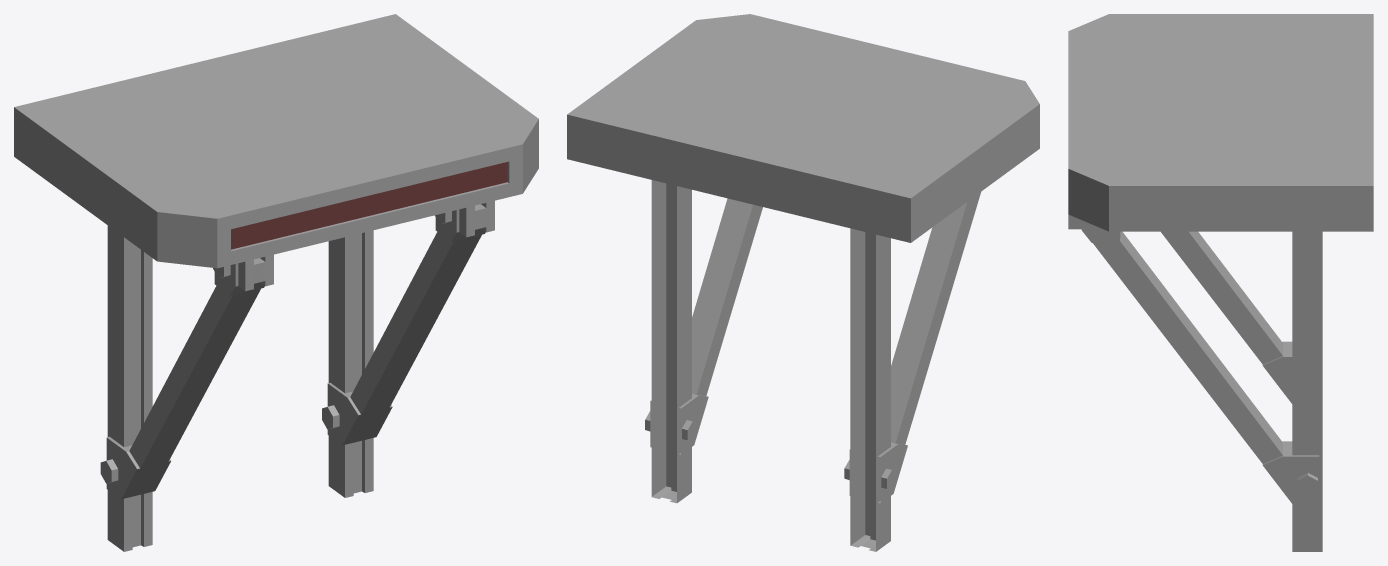
The model's file is PillArenaLanding.fbx.
3 views of the same model, side by side, from view 1: azimuth 30°, elevation 25°; view 2: azimuth 150°, elevation 25°; view 3: azimuth 270°, elevation 25° (orthographic). The views are drawn at different scales.
Visible parts, largest first — view 1: PillArenaLanding; view 2: PillArenaLanding; view 3: PillArenaLanding.
Part boxes in pixels (x1,y1,x2,y2): PillArenaLanding: (14,14,538,551); PillArenaLanding: (567,14,1039,551); PillArenaLanding: (1068,14,1373,551).
Bounding box in the file's own units: 4028 × 4329 × 3021.
